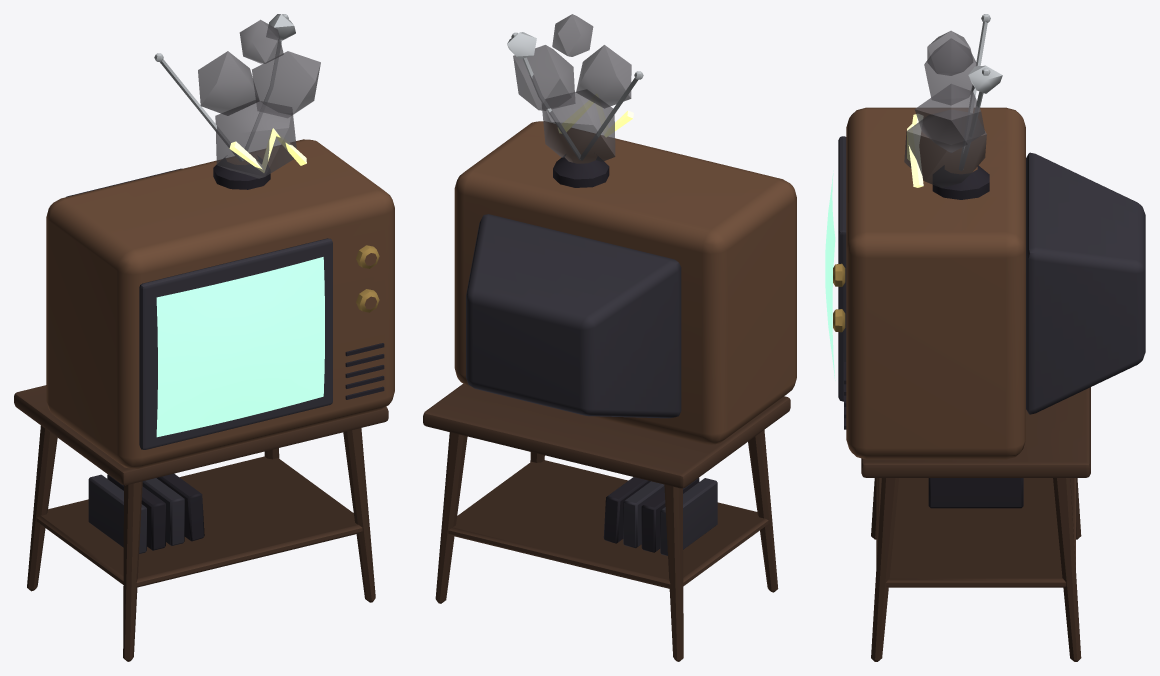
Rendered from tv_crt.glb.
The picture shows the model from 3 angles, left to right: view 1: azimuth 30°, elevation 25°; view 2: azimuth 150°, elevation 25°; view 3: azimuth 270°, elevation 25°; orthographic projection. The views are drawn at different scales.
Parts seen in each view (by area): view 1: tv_crt, screen, broken; view 2: tv_crt, broken; view 3: tv_crt, broken, screen.
Part boxes in pixels (left/top/right/bottom): tv_crt: left=14, top=14, right=394, bottom=661; screen: left=156, top=257, right=324, bottom=437; broken: left=198, top=19, right=320, bottom=178; tv_crt: left=423, top=32, right=796, bottom=661; broken: left=513, top=14, right=633, bottom=163; tv_crt: left=833, top=14, right=1145, bottom=661; broken: left=904, top=30, right=986, bottom=188; screen: left=825, top=170, right=835, bottom=380.
Bounding box in the file's own units: 0.66 × 1.31 × 0.6424.
